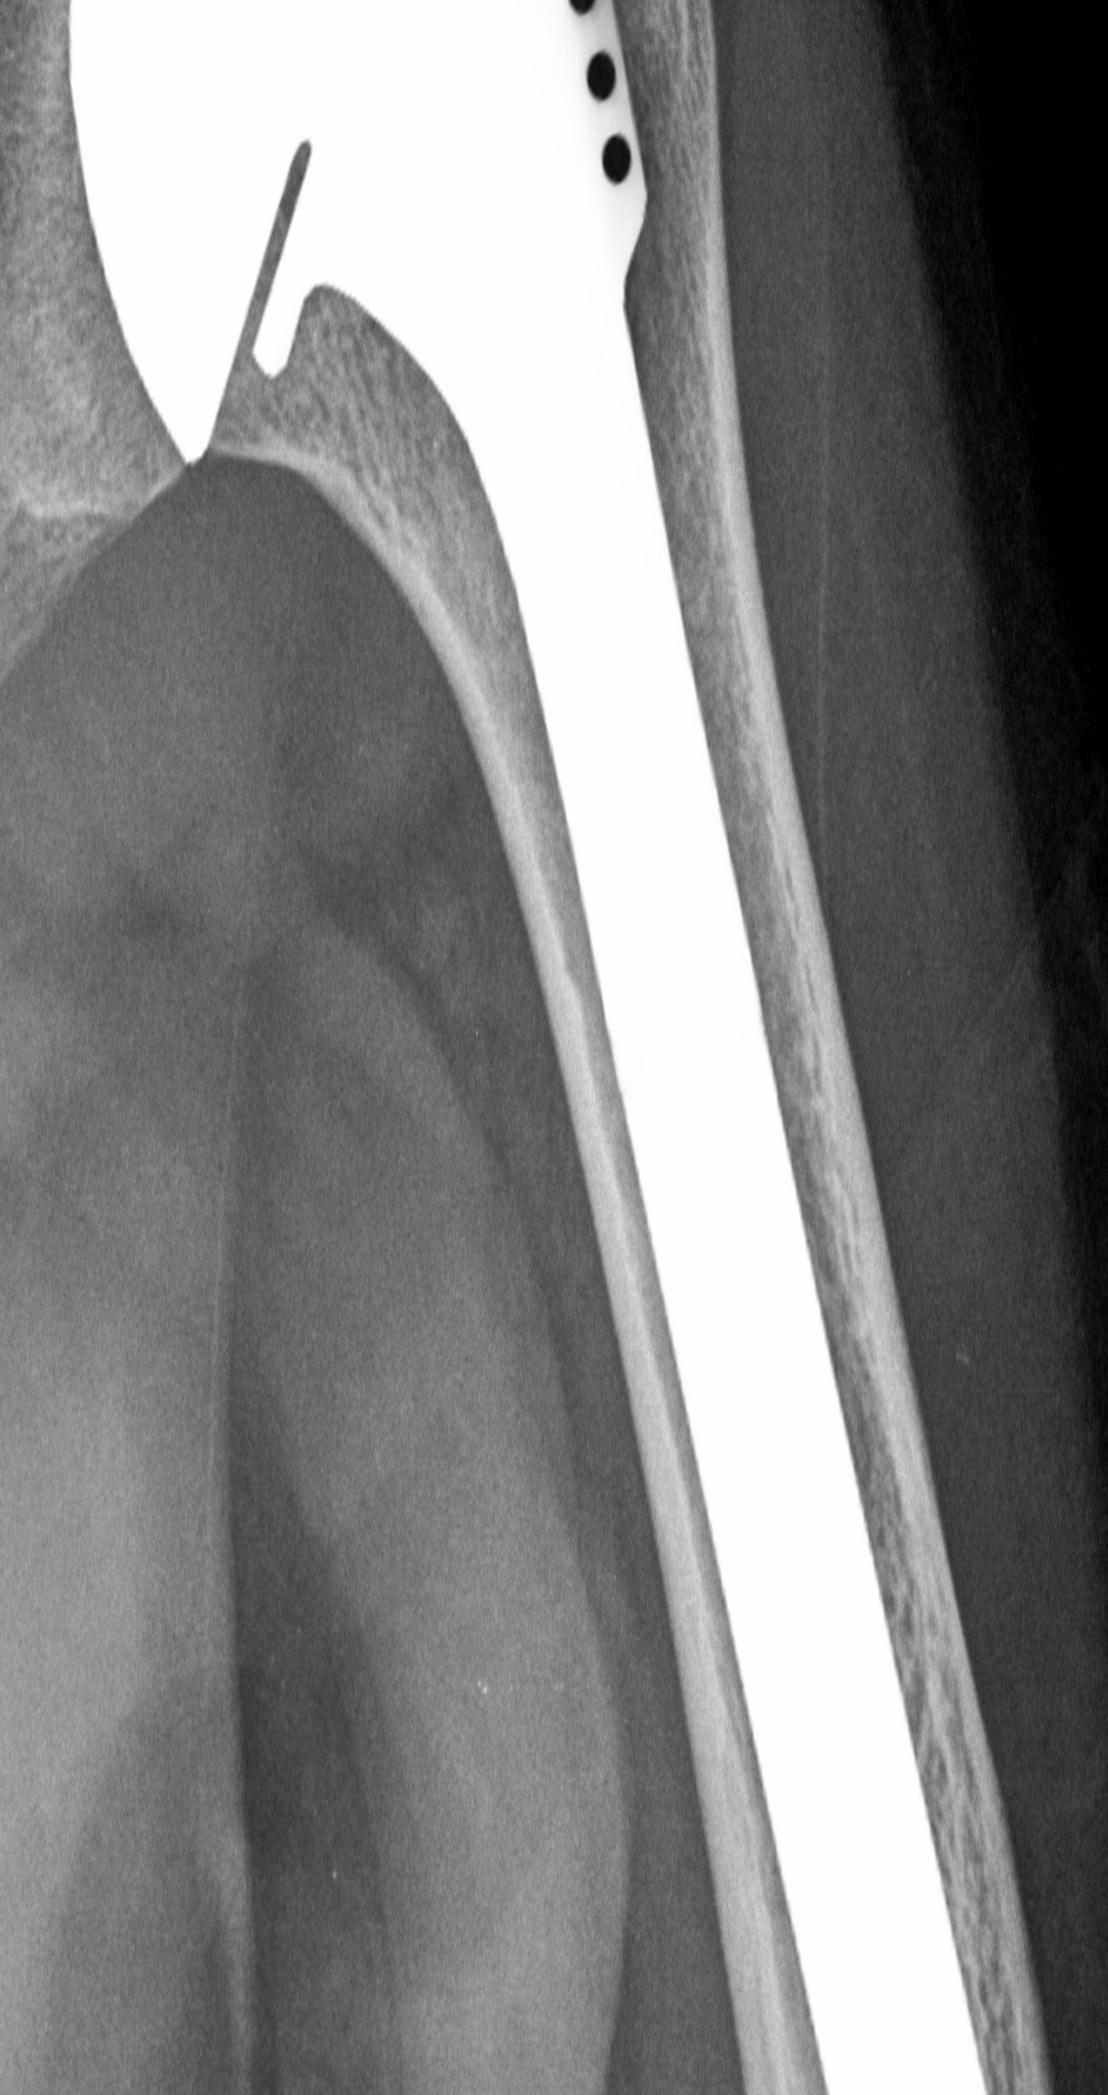Shoulder-Olympia-Wright: (51, 1, 1024, 2095)
